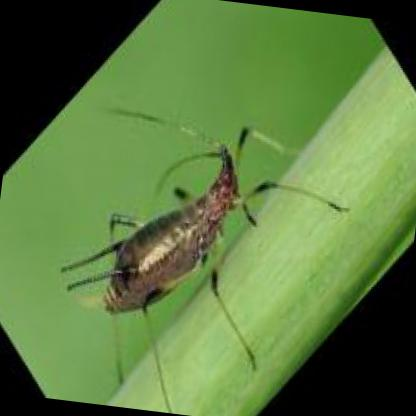uroleucon compositae: (58, 110, 347, 314)
